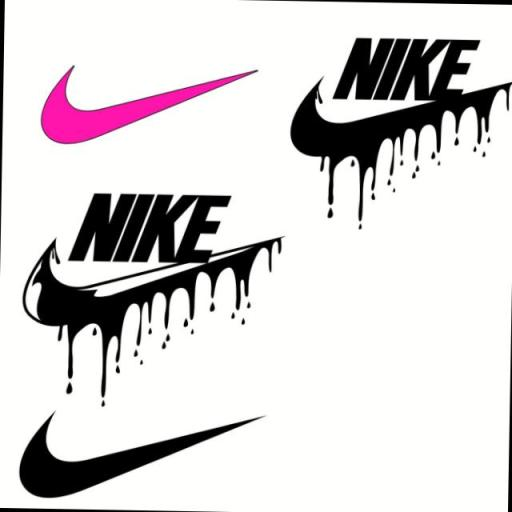Nike: (18, 408, 266, 504), (334, 35, 480, 106)
